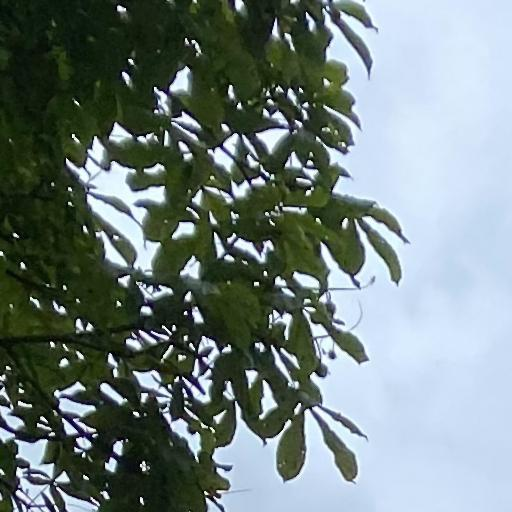tree: (1, 1, 411, 512)
